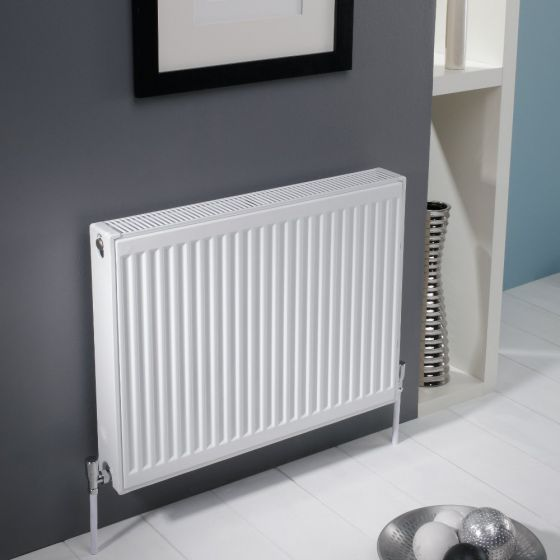Radiator: (79, 166, 409, 495)
